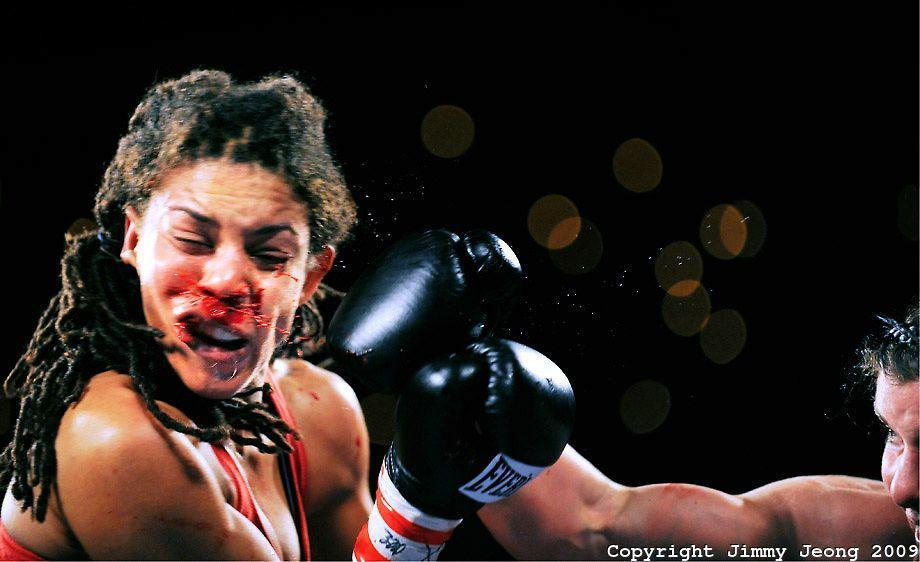Fire: (172, 271, 299, 345)
